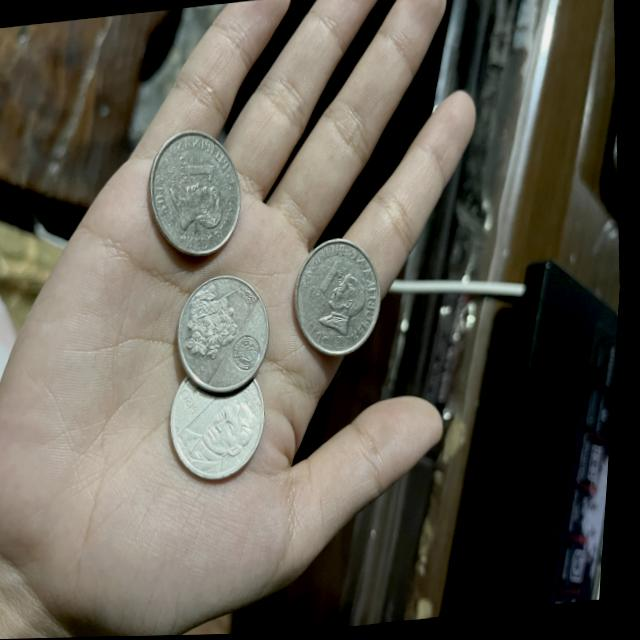1_New_Back: (178, 276, 256, 370)
1_Old_Front: (166, 145, 232, 193), (309, 259, 358, 312)
